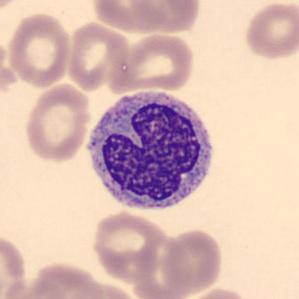Monocyte: (79, 84, 221, 218)
RBC: (89, 209, 170, 283), (107, 30, 198, 95), (22, 81, 93, 164), (5, 11, 74, 89), (65, 20, 133, 92), (160, 227, 224, 296), (18, 259, 107, 299), (242, 1, 298, 62), (90, 0, 172, 34), (128, 0, 202, 36), (0, 230, 29, 299), (0, 273, 70, 299), (63, 279, 142, 299), (182, 286, 252, 299), (0, 34, 7, 88), (0, 0, 22, 17)
